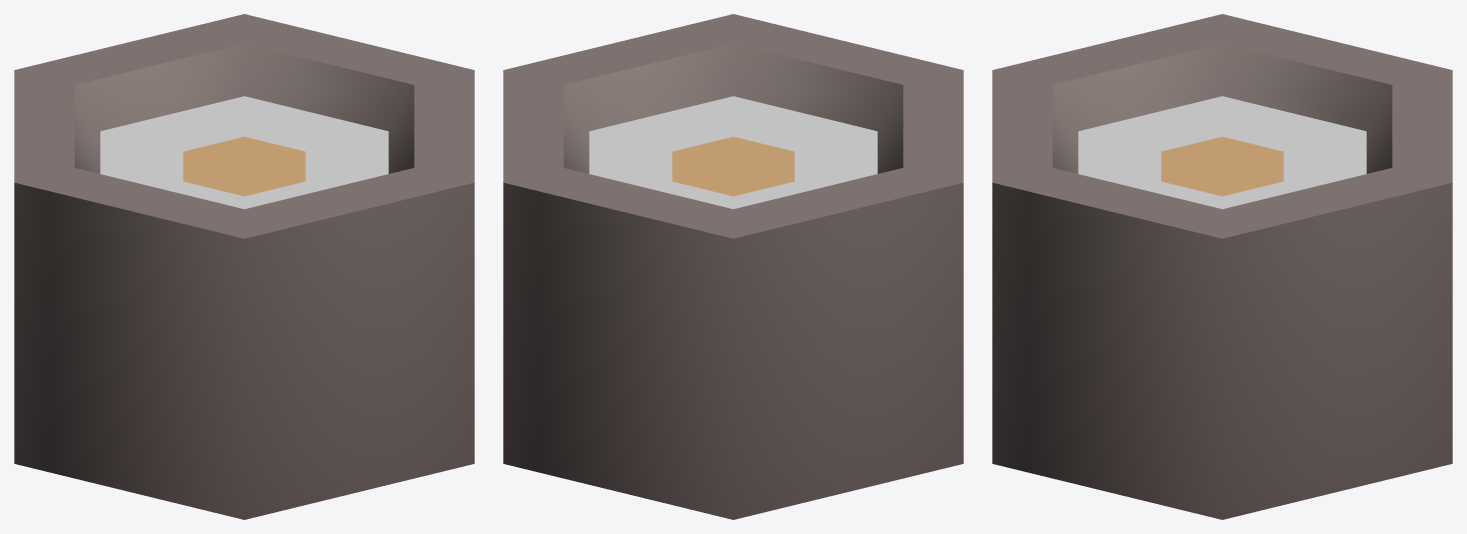
The model's file is maki-salmon.glb.
3 renders of one model, left to right at view 1: azimuth 30°, elevation 25°; view 2: azimuth 150°, elevation 25°; view 3: azimuth 270°, elevation 25°, orthographic.
Visible parts, largest first — view 1: maki-salmon; view 2: maki-salmon; view 3: maki-salmon.
Boxes of the visible parts, x1,y1,x2,y2 form: maki-salmon: (14, 14, 474, 519); maki-salmon: (503, 14, 963, 519); maki-salmon: (992, 14, 1452, 519).
Bounding box in the file's own units: 0.12 × 0.07 × 0.1039.
